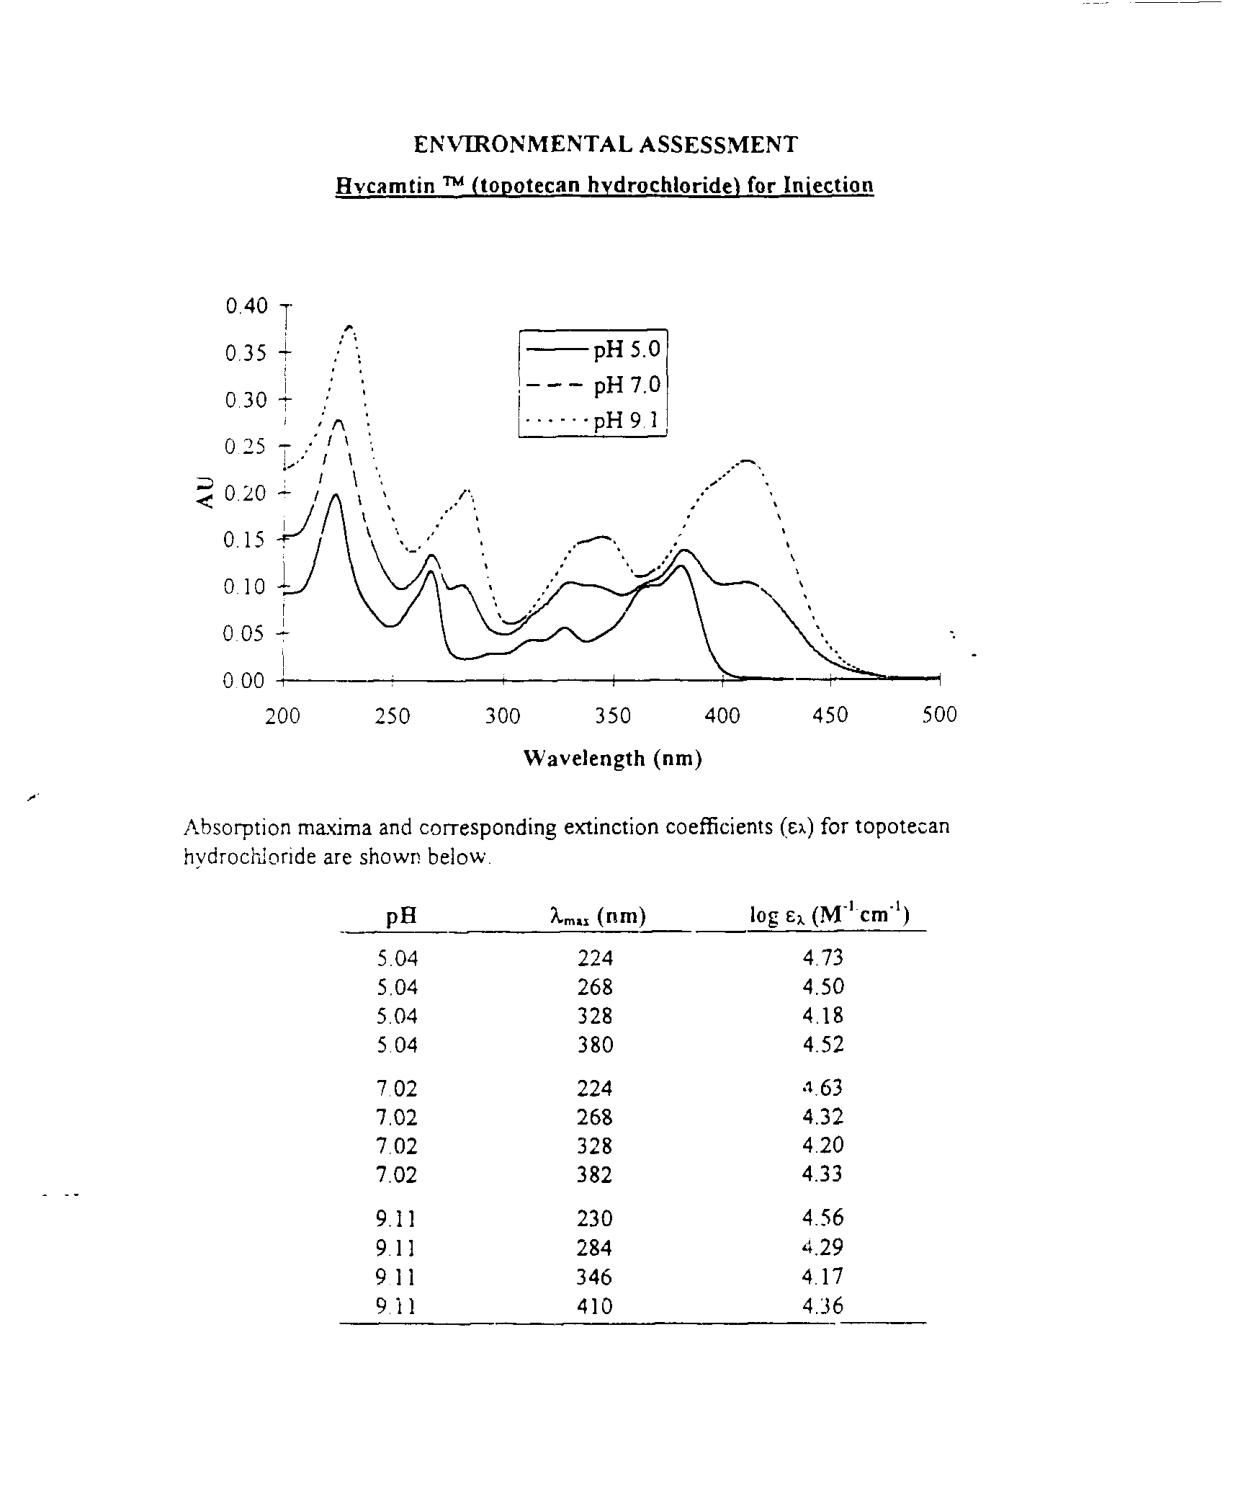partial_lined: (334, 895, 927, 1325)
